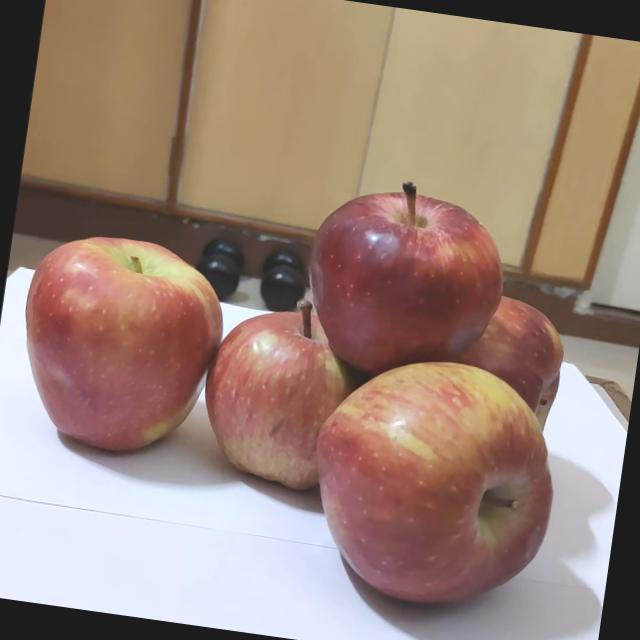apple: (296, 348, 578, 631), (0, 204, 253, 489), (282, 155, 526, 403), (180, 287, 387, 510), (378, 278, 588, 444)
